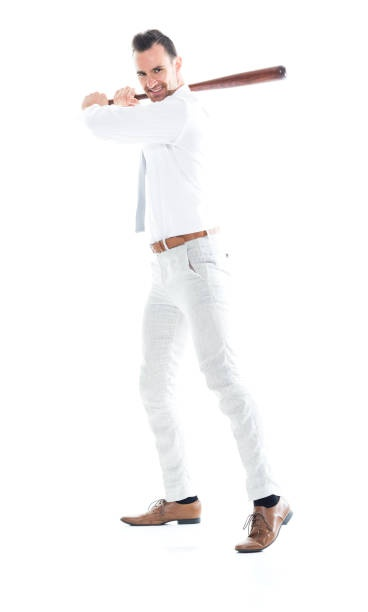bita: (184, 62, 287, 98)
